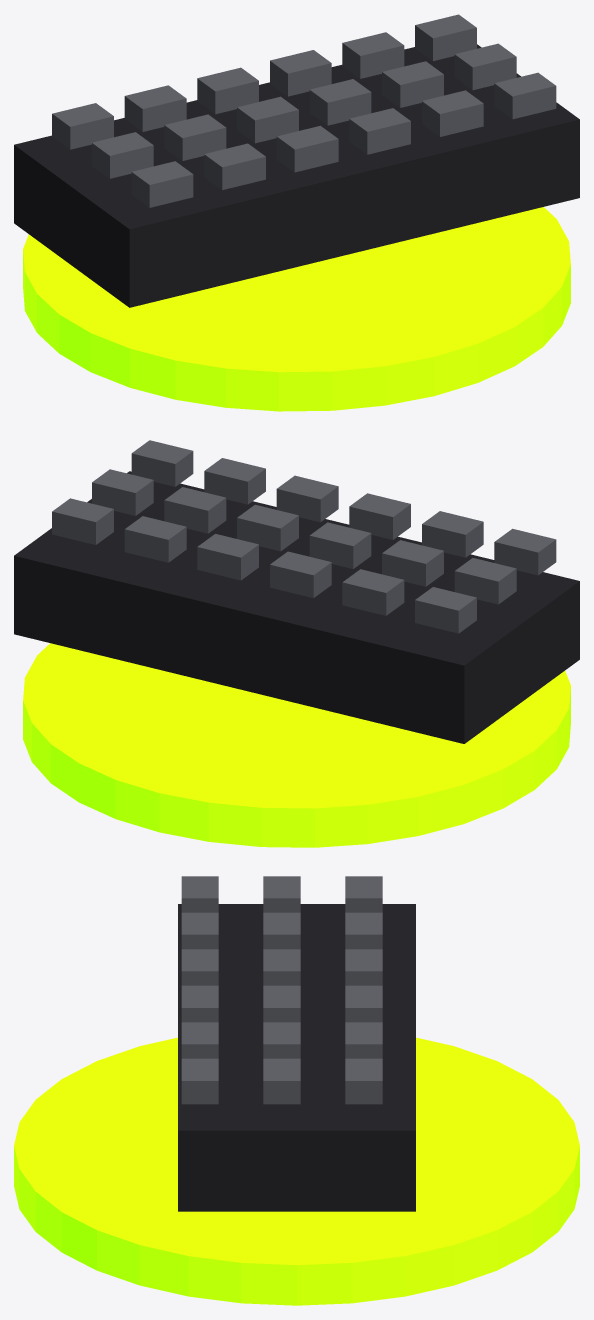
Rendered from tech_keyboard.glb.
3 views of the same model, one above another, from view 1: azimuth 30°, elevation 25°; view 2: azimuth 150°, elevation 25°; view 3: azimuth 270°, elevation 25° (orthographic). The views are drawn at different scales.
Visible parts, largest first — view 1: 08_12_Popular_Tech_Keyboard_ROOT_base, 08_12_Popular_Tech_Keyboard_part_01, 08_12_Popular_Tech_Keyboard_part_19, 08_12_Popular_Tech_Keyboard_part_04, 08_12_Popular_Tech_Keyboard_part_10, 08_12_Popular_Tech_Keyboard_part_07, 08_12_Popular_Tech_Keyboard_part_13, 08_12_Popular_Tech_Keyboard_part_16, 08_12_Popular_Tech_Keyboard_part_12, 08_12_Popular_Tech_Keyboard_part_05, 08_12_Popular_Tech_Keyboard_part_06, 08_12_Popular_Tech_Keyboard_part_18 (+8 smaller); view 2: 08_12_Popular_Tech_Keyboard_ROOT_base, 08_12_Popular_Tech_Keyboard_part_01, 08_12_Popular_Tech_Keyboard_part_05, 08_12_Popular_Tech_Keyboard_part_14, 08_12_Popular_Tech_Keyboard_part_02, 08_12_Popular_Tech_Keyboard_part_11, 08_12_Popular_Tech_Keyboard_part_08, 08_12_Popular_Tech_Keyboard_part_17, 08_12_Popular_Tech_Keyboard_part_19, 08_12_Popular_Tech_Keyboard_part_09, 08_12_Popular_Tech_Keyboard_part_13, 08_12_Popular_Tech_Keyboard_part_15 (+8 smaller); view 3: 08_12_Popular_Tech_Keyboard_ROOT_base, 08_12_Popular_Tech_Keyboard_part_01, 08_12_Popular_Tech_Keyboard_part_17, 08_12_Popular_Tech_Keyboard_part_18, 08_12_Popular_Tech_Keyboard_part_19, 08_12_Popular_Tech_Keyboard_part_05, 08_12_Popular_Tech_Keyboard_part_06, 08_12_Popular_Tech_Keyboard_part_11, 08_12_Popular_Tech_Keyboard_part_12, 08_12_Popular_Tech_Keyboard_part_07, 08_12_Popular_Tech_Keyboard_part_13, 08_12_Popular_Tech_Keyboard_part_02 (+8 smaller).
Boxes of the visible parts, bbox=[...] form: 08_12_Popular_Tech_Keyboard_ROOT_base: bbox=[23, 207, 570, 411]; 08_12_Popular_Tech_Keyboard_part_01: bbox=[14, 44, 579, 307]; 08_12_Popular_Tech_Keyboard_part_19: bbox=[494, 72, 556, 119]; 08_12_Popular_Tech_Keyboard_part_04: bbox=[131, 161, 193, 207]; 08_12_Popular_Tech_Keyboard_part_10: bbox=[276, 125, 338, 172]; 08_12_Popular_Tech_Keyboard_part_07: bbox=[204, 143, 265, 190]; 08_12_Popular_Tech_Keyboard_part_13: bbox=[349, 108, 410, 154]; 08_12_Popular_Tech_Keyboard_part_16: bbox=[422, 90, 483, 136]; 08_12_Popular_Tech_Keyboard_part_12: bbox=[309, 79, 371, 125]; 08_12_Popular_Tech_Keyboard_part_05: bbox=[124, 85, 186, 131]; 08_12_Popular_Tech_Keyboard_part_06: bbox=[164, 114, 226, 160]; 08_12_Popular_Tech_Keyboard_part_18: bbox=[454, 43, 516, 90]; 08_12_Popular_Tech_Keyboard_ROOT_base: bbox=[23, 643, 570, 847]; 08_12_Popular_Tech_Keyboard_part_01: bbox=[14, 471, 579, 743]; 08_12_Popular_Tech_Keyboard_part_05: bbox=[342, 569, 404, 615]; 08_12_Popular_Tech_Keyboard_part_14: bbox=[124, 516, 186, 562]; 08_12_Popular_Tech_Keyboard_part_02: bbox=[415, 587, 476, 633]; 08_12_Popular_Tech_Keyboard_part_11: bbox=[197, 534, 258, 580]; 08_12_Popular_Tech_Keyboard_part_08: bbox=[270, 551, 331, 597]; 08_12_Popular_Tech_Keyboard_part_17: bbox=[52, 498, 113, 544]; 08_12_Popular_Tech_Keyboard_part_19: bbox=[131, 440, 193, 486]; 08_12_Popular_Tech_Keyboard_part_09: bbox=[309, 522, 371, 568]; 08_12_Popular_Tech_Keyboard_part_13: bbox=[276, 475, 338, 522]; 08_12_Popular_Tech_Keyboard_part_15: bbox=[164, 487, 226, 533]; 08_12_Popular_Tech_Keyboard_ROOT_base: bbox=[14, 1037, 579, 1305]; 08_12_Popular_Tech_Keyboard_part_01: bbox=[178, 904, 415, 1211]; 08_12_Popular_Tech_Keyboard_part_17: bbox=[345, 1058, 382, 1104]; 08_12_Popular_Tech_Keyboard_part_18: bbox=[263, 1058, 300, 1104]; 08_12_Popular_Tech_Keyboard_part_19: bbox=[181, 1058, 218, 1104]; 08_12_Popular_Tech_Keyboard_part_05: bbox=[345, 912, 382, 949]; 08_12_Popular_Tech_Keyboard_part_06: bbox=[263, 912, 300, 949]; 08_12_Popular_Tech_Keyboard_part_11: bbox=[345, 985, 382, 1022]; 08_12_Popular_Tech_Keyboard_part_12: bbox=[263, 985, 300, 1022]; 08_12_Popular_Tech_Keyboard_part_07: bbox=[181, 912, 218, 949]; 08_12_Popular_Tech_Keyboard_part_13: bbox=[181, 985, 218, 1022]; 08_12_Popular_Tech_Keyboard_part_02: bbox=[345, 876, 382, 912].
Bounding box in the file's own units: 0.76 × 0.3075 × 0.76.
